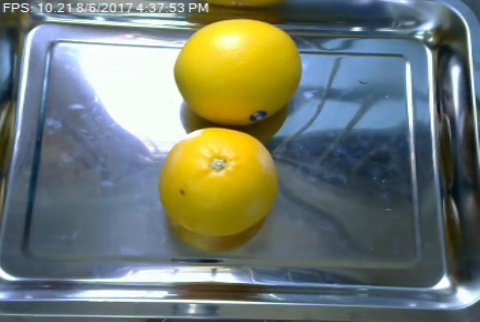Orange: (173, 18, 304, 127), (159, 127, 279, 236)
